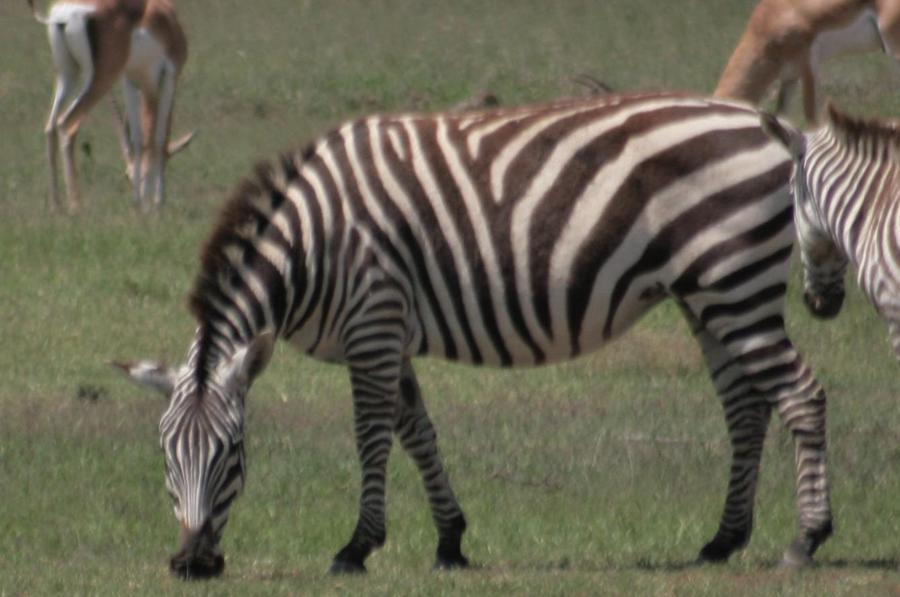zebra_plains: (251, 68, 831, 375)
